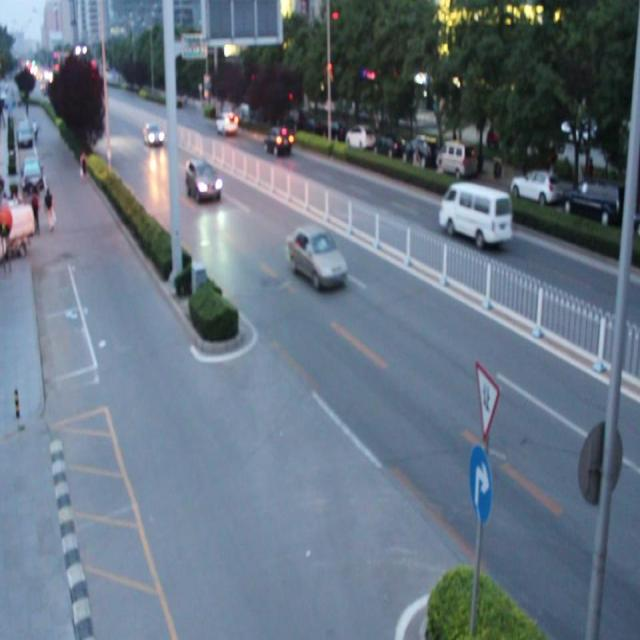car: (286, 221, 348, 291), (184, 157, 221, 202), (263, 125, 291, 154), (142, 120, 166, 148), (215, 110, 238, 134)
truck: (437, 180, 512, 247)
